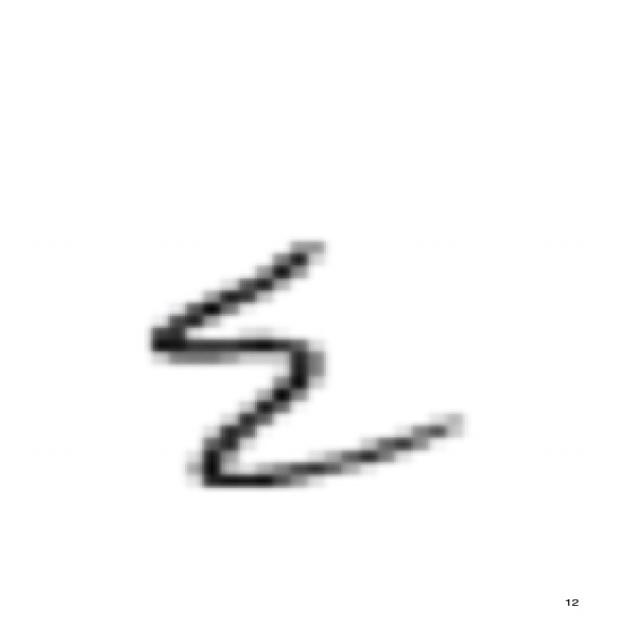4 -four-: (137, 228, 480, 502)
